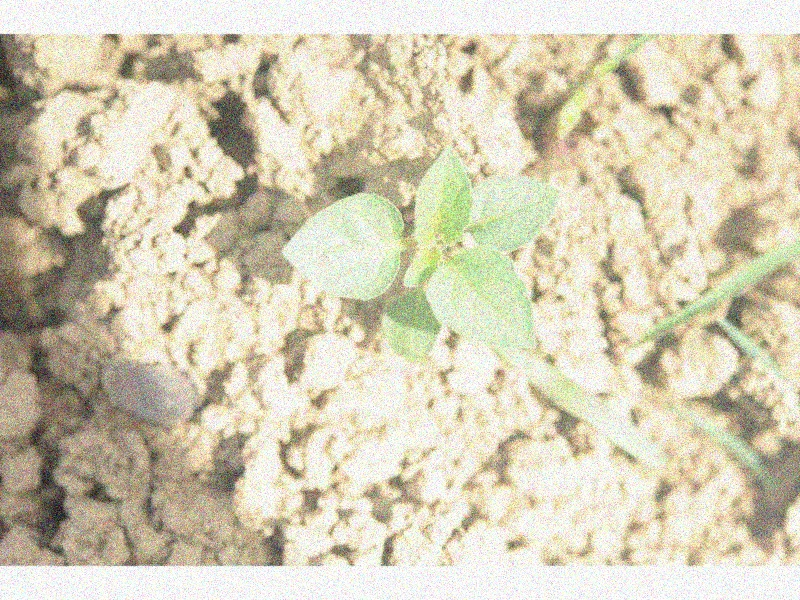nightshade: (283, 149, 555, 361)
